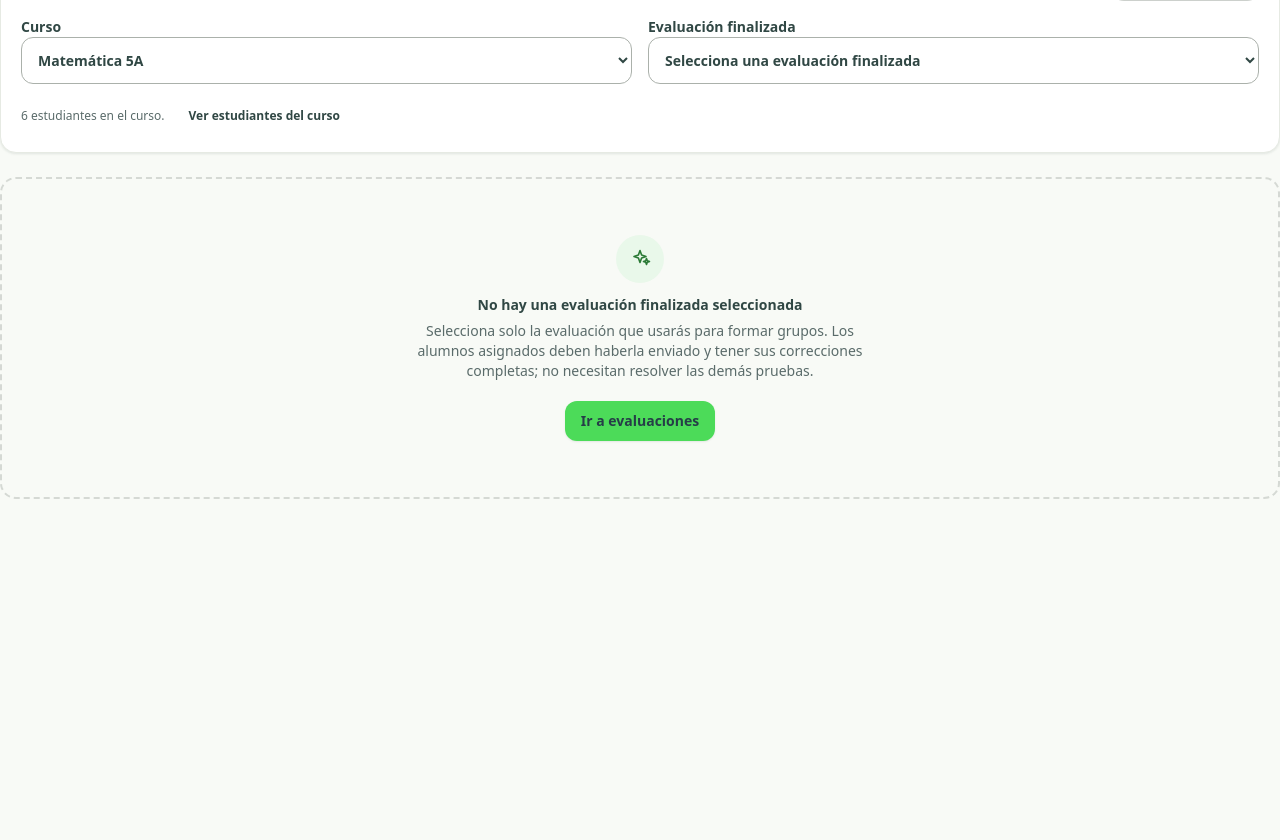
Test: estudiantes reales → evaluación → agrupamiento → resultados › solo pide la evaluación elegida aunque existan otras publicadas o finalizadas
Select "Diagnóstico final · assessment-final" in the dropdown labelled "Evaluación finalizada" at point(954, 60), box [648, 37, 1259, 84]
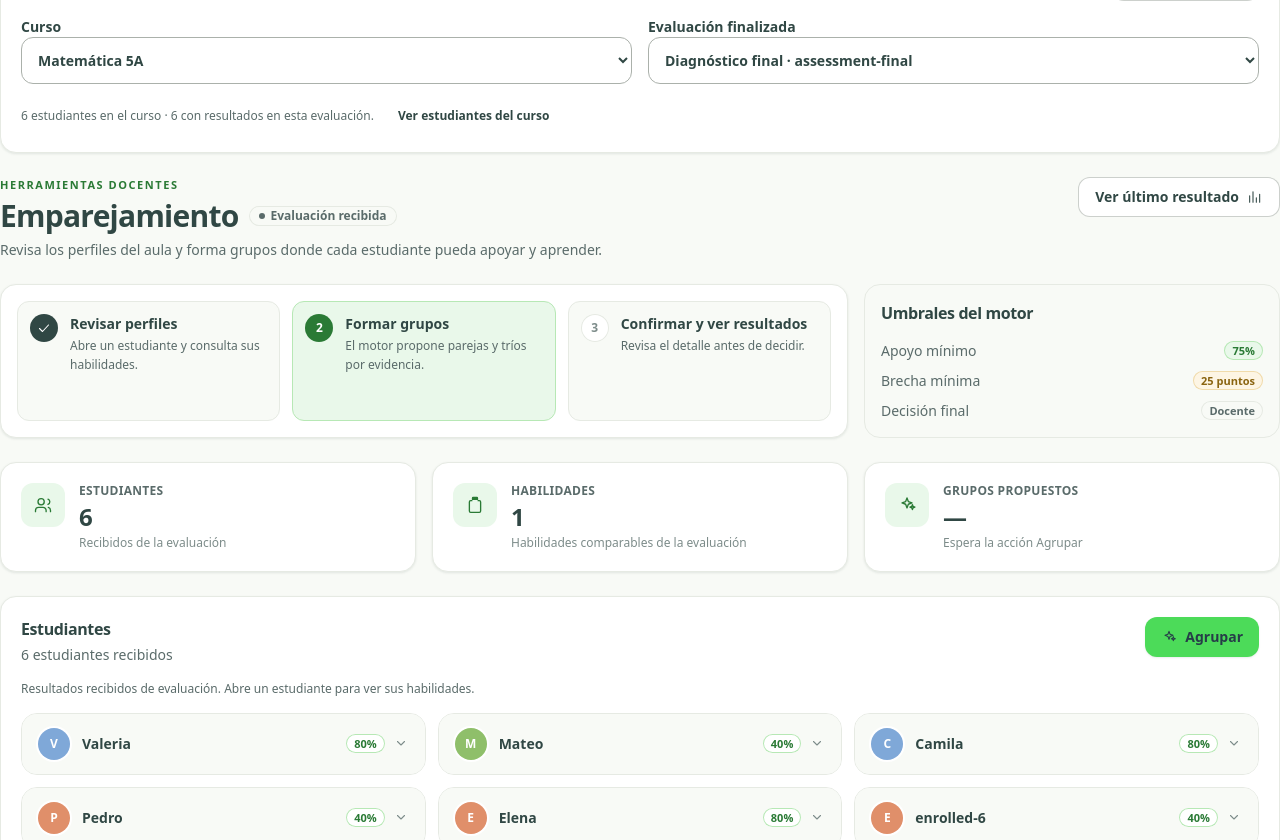
Expected: the text "6 estudiantes recibidos" is shown, [21, 644, 173, 664]
Click the button "Agrupar" at point(1202, 636), box [1145, 616, 1259, 656]
(page scrolled)
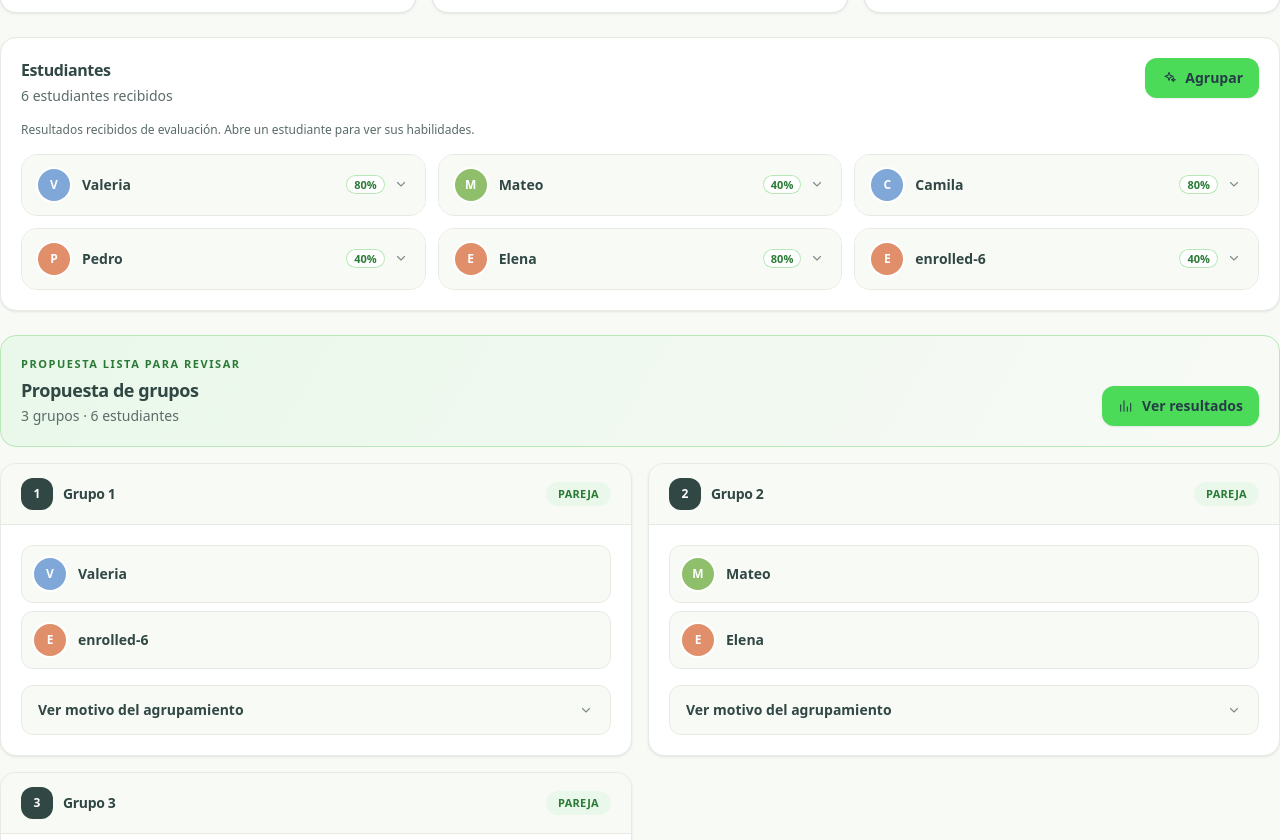
Expected: the heading "Propuesta de grupos" is shown, [21, 378, 198, 402]
Expected: the number of lists named "Integrantes del grupo" is 3
